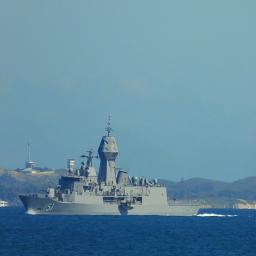Fragata: (17, 118, 203, 219)
